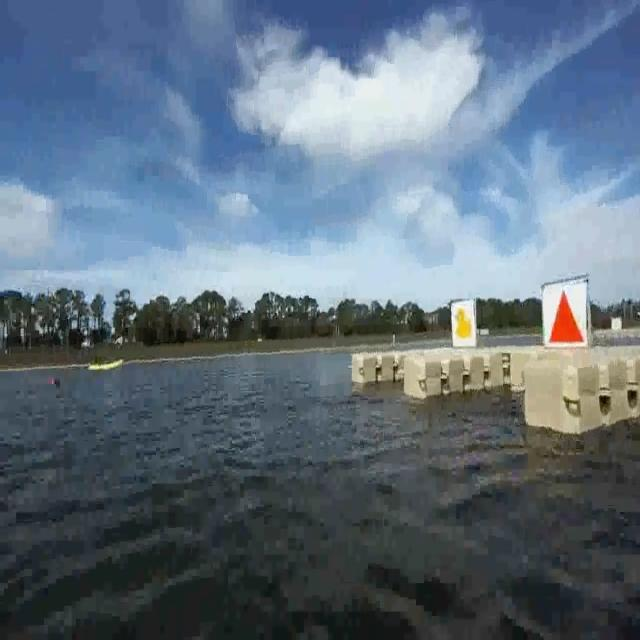red-dot: (540, 284, 585, 348)
yellow-duck: (454, 304, 473, 338)
